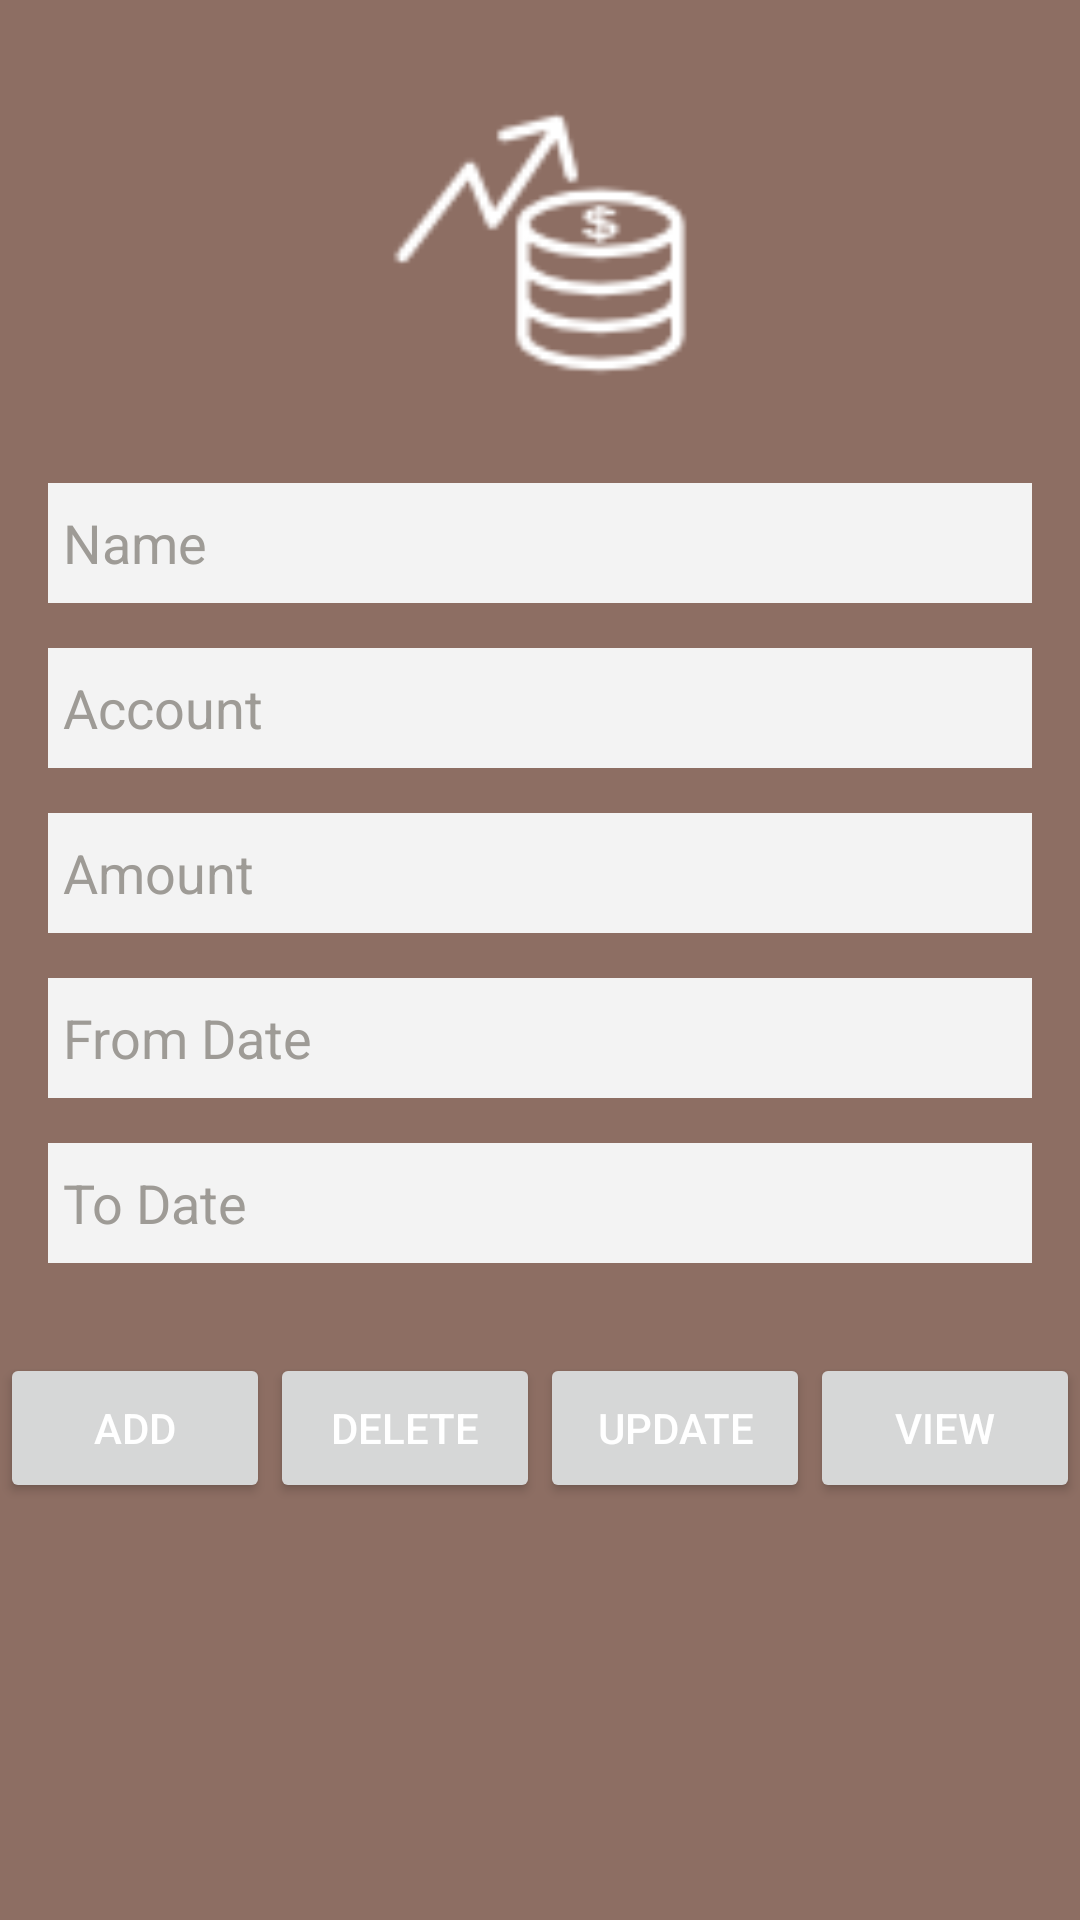

Icon click points for this 1080*1920 phone screenshot, format [x,y]:
coins: [540,243]
